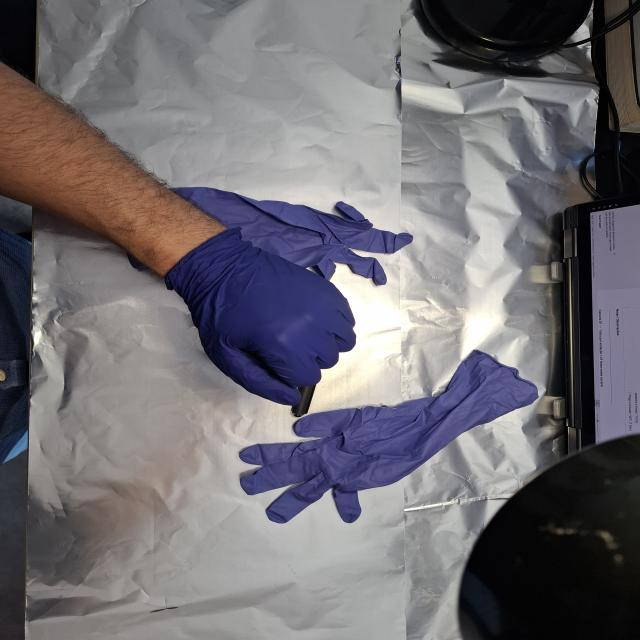glove_on: (163, 226, 360, 408)
